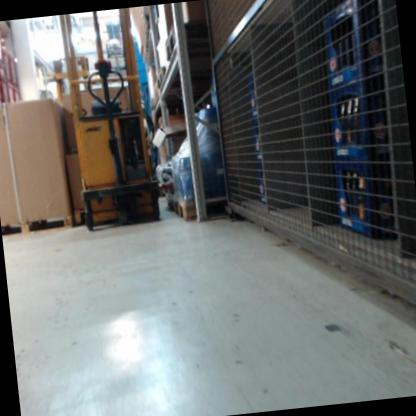pallet: (0, 211, 73, 241), (161, 20, 212, 60), (174, 194, 229, 221), (154, 64, 167, 90)
pallet_truck: (57, 6, 161, 229)
